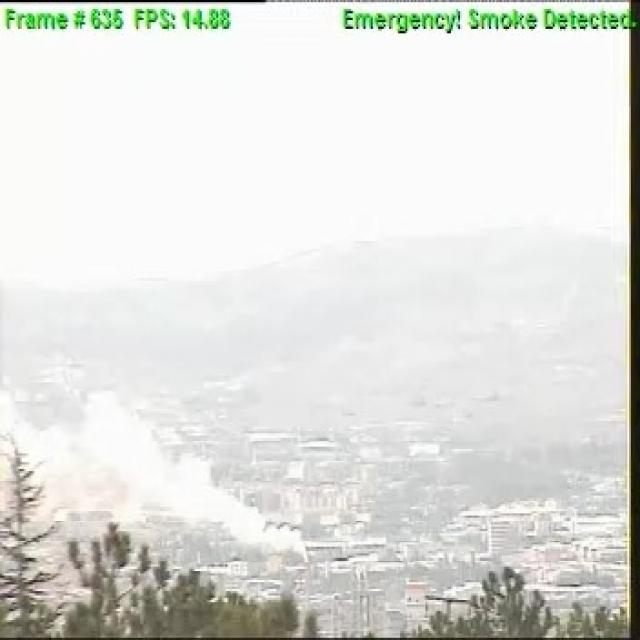smoke: (97, 408, 309, 556)
